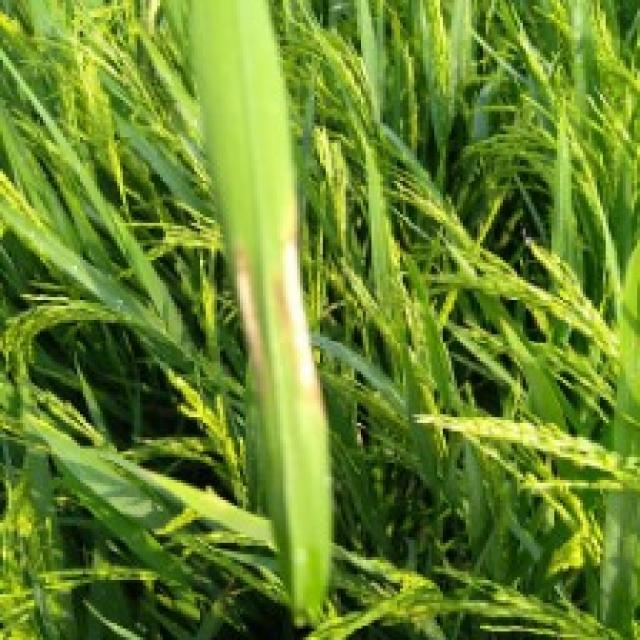Rice___Rice_Blast: (187, 1, 336, 616)
